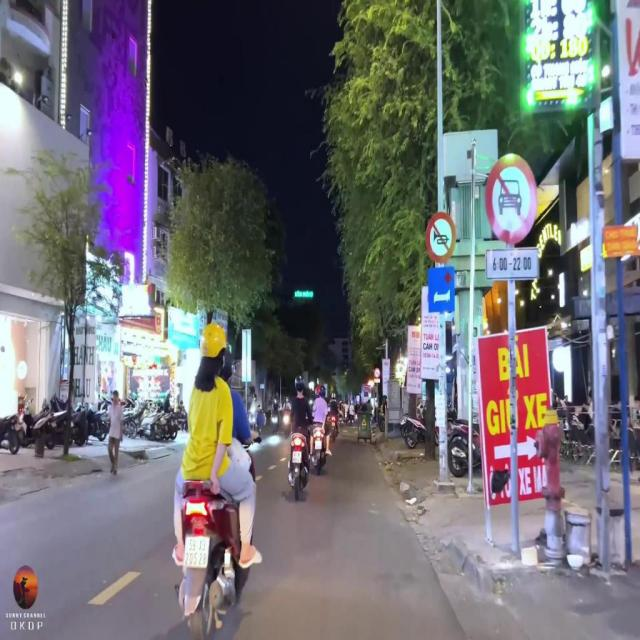cam_o_to: (486, 155, 537, 245), (374, 368, 379, 378)
cam_su_dung_coi: (426, 210, 456, 262)
khac: (486, 248, 540, 279), (428, 268, 456, 313)
